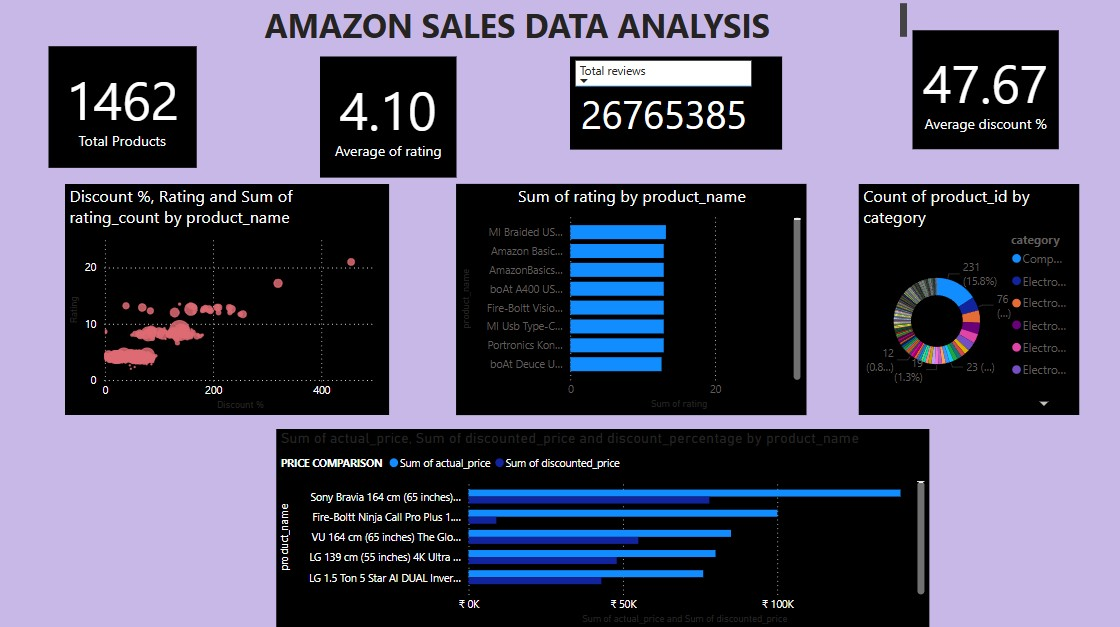

The dashboard page shown, as its layout file describes it:
{"tool":"powerbi","page":{"name":"Page 1","canvas":[1280,720],"ordinal":0},"visuals":[{"type":"card","fields":{"Values":["CountNonNull(cleaned_amazon.product_id)"]},"box":[56.2,53.8,168.8,138.8],"z":0},{"type":"card","fields":{"Values":["Avg(cleaned_amazon.rating)"]},"box":[366,54,156,138],"z":1000},{"type":"tableEx","fields":{"Values":["Sum(cleaned_amazon.rating_count)"]},"box":[652,66,242,106],"z":2000},{"type":"card","fields":{"Values":["Avg(cleaned_amazon.discount_percentage)"]},"box":[1042.5,36.2,167.5,136.2],"z":3000},{"type":"donutChart","fields":{"Category":["cleaned_amazon.category"],"Y":["CountNonNull(cleaned_amazon.product_id)"]},"box":[982,212,252,264],"z":4000},{"type":"barChart","fields":{"Category":["cleaned_amazon.product_name"],"Y":["Sum(cleaned_amazon.rating)"]},"box":[522,212,400,264],"z":5000},{"type":"scatterChart","fields":{"X":["Sum(cleaned_amazon.discount_percentage)"],"Y":["Sum(cleaned_amazon.rating)"],"Size":["Sum(cleaned_amazon.rating_count)"],"Category":["cleaned_amazon.product_name"]},"box":[74,212,370,264],"z":6000},{"type":"clusteredBarChart","fields":{"Category":["cleaned_amazon.product_name"],"Y":["Sum(cleaned_amazon.actual_price)","Sum(cleaned_amazon.discounted_price)"]},"box":[316,492,746,228],"z":7000},{"type":"textbox","box":[167.5,0,893.8,53.8],"z":7001}]}

Visuals, with their boxes in screenshot pixels (x1, y1, x2, y2), scaled from the page's 1280x720 canvas onto the 1120x627 screenshot:
card - CountNonNull(cleaned_amazon.product_id): box(49, 47, 197, 168)
card - Avg(cleaned_amazon.rating): box(320, 47, 457, 167)
tableEx - Sum(cleaned_amazon.rating_count): box(570, 57, 782, 150)
card - Avg(cleaned_amazon.discount_percentage): box(912, 32, 1059, 150)
donutChart - cleaned_amazon.category x CountNonNull(cleaned_amazon.product_id): box(859, 185, 1080, 415)
barChart - cleaned_amazon.product_name x Sum(cleaned_amazon.rating): box(457, 185, 807, 415)
scatterChart - Sum(cleaned_amazon.discount_percentage) x Sum(cleaned_amazon.rating): box(65, 185, 388, 415)
clusteredBarChart - cleaned_amazon.product_name x Sum(cleaned_amazon.actual_price): box(276, 428, 929, 626)
textbox: box(147, 0, 929, 47)
